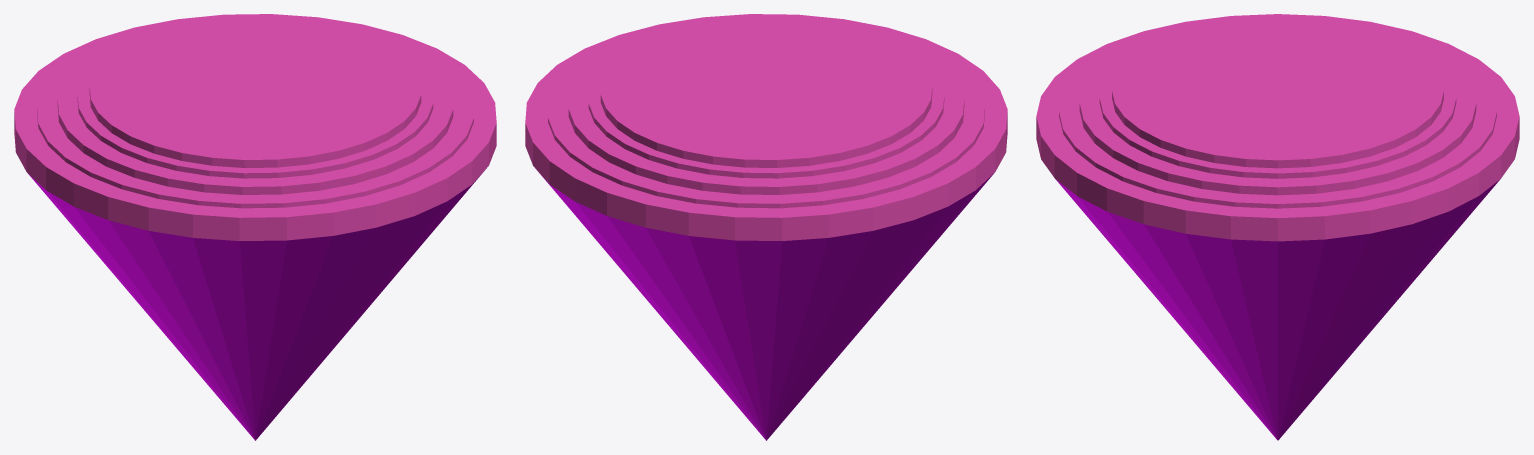
Rendered from diamond.fbx.
3 renders of one model, left to right at view 1: azimuth 30°, elevation 25°; view 2: azimuth 150°, elevation 25°; view 3: azimuth 270°, elevation 25°, orthographic.
Parts seen in each view (by area): view 1: Circle, Cone; view 2: Circle, Cone; view 3: Circle, Cone.
Boxes of the visible parts, x1,y1,x2,y2 form: Circle: (14,14,496,240); Cone: (28,168,486,440); Circle: (525,14,1007,240); Cone: (535,168,993,440); Circle: (1036,14,1519,241); Cone: (1055,179,1500,440).
Size of the model in its own units: 200 by 160 by 200.
